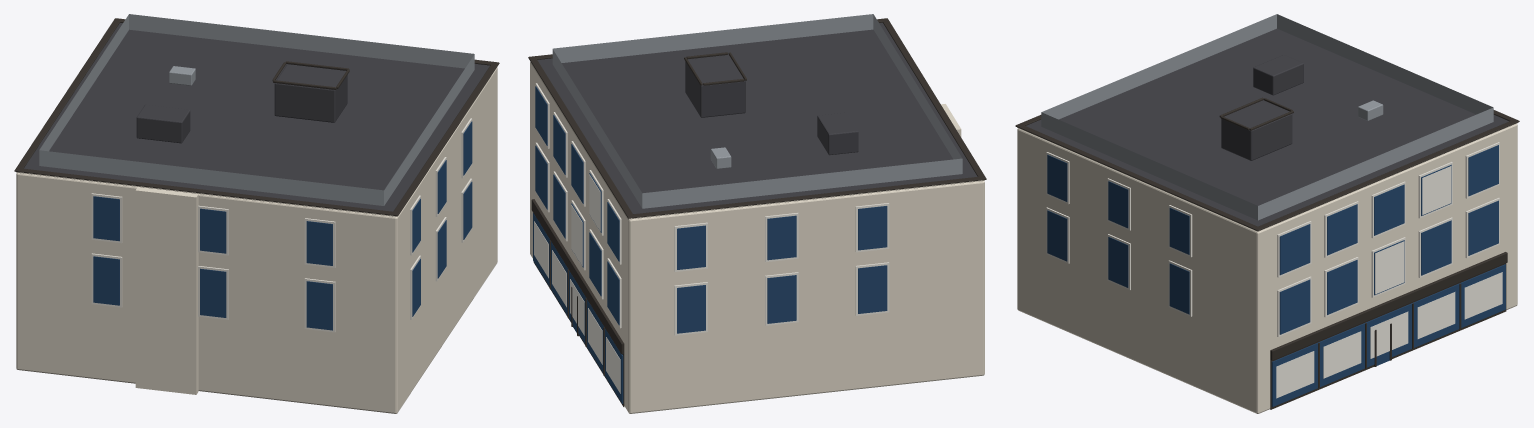
The model's file is 501-third.glb.
3 renders of one model, left to right at view 1: azimuth 30°, elevation 25°; view 2: azimuth 150°, elevation 25°; view 3: azimuth 270°, elevation 25°, orthographic. The views are drawn at different scales.
Parts seen in each view (by area): view 1: body, roof_field, guardrail, shaft_bump, parapet_cap, bulkhead, access_box, sw_f2_0_glass, sw_f2_2_glass, sw_f2_1_glass, sw_f3_0_glass, sw_f3_1_glass (+7 smaller); view 2: body, roof_field, guardrail, parapet_cap, bulkhead, shop_t_glass, access_box, shop_t_fascia, nw_f2_1_glass, nw_f2_2_glass, nw_f2_0_glass, nw_f3_1_glass (+24 smaller); view 3: body, roof_field, guardrail, shop_t_glass, bulkhead, parapet_cap, shop_t_fascia, access_box, t_f2_0_glass, t_f2_3_glass, t_f2_4_glass, t_f2_1_glass (+19 smaller).
Part boxes in pixels (box(x1,y1,x2,y2)): body: box(16, 67, 497, 413); roof_field: box(24, 23, 489, 211); guardrail: box(39, 14, 474, 205); shaft_bump: box(135, 187, 198, 394); parapet_cap: box(14, 18, 499, 216); bulkhead: box(274, 64, 347, 122); access_box: box(136, 104, 190, 143); sw_f2_0_glass: box(93, 256, 119, 305); sw_f2_2_glass: box(306, 281, 332, 330); sw_f2_1_glass: box(200, 268, 226, 317); sw_f3_0_glass: box(93, 196, 119, 241); sw_f3_1_glass: box(200, 208, 226, 253); body: box(530, 61, 984, 413); roof_field: box(537, 22, 977, 213); guardrail: box(552, 14, 962, 208); parapet_cap: box(528, 18, 986, 218); bulkhead: box(685, 55, 745, 117); shop_t_glass: box(533, 213, 623, 403); access_box: box(817, 112, 858, 155); shop_t_fascia: box(531, 199, 623, 354); nw_f2_1_glass: box(767, 275, 796, 323); nw_f2_2_glass: box(858, 265, 887, 313); nw_f2_0_glass: box(677, 285, 705, 333); nw_f3_1_glass: box(767, 215, 796, 260); body: box(1017, 124, 1517, 413); roof_field: box(1026, 28, 1508, 226); guardrail: box(1041, 14, 1493, 220); shop_t_glass: box(1271, 264, 1505, 406); bulkhead: box(1221, 100, 1292, 160); parapet_cap: box(1015, 110, 1519, 231); shop_t_fascia: box(1270, 252, 1507, 360); access_box: box(1253, 55, 1303, 95); t_f2_0_glass: box(1279, 279, 1310, 334); t_f2_3_glass: box(1421, 220, 1451, 275); t_f2_4_glass: box(1468, 200, 1498, 255); t_f2_1_glass: box(1327, 260, 1357, 314).
Size of the model in its own units: 34.7 by 16.4 by 34.54.
